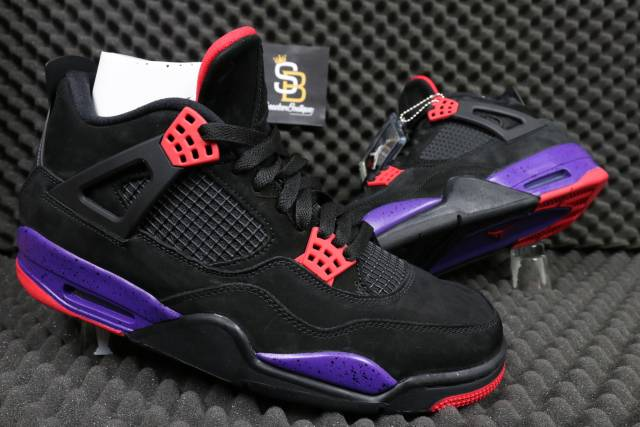Air Jordan 4 Raptors: (7, 19, 518, 417), (319, 59, 622, 290)
